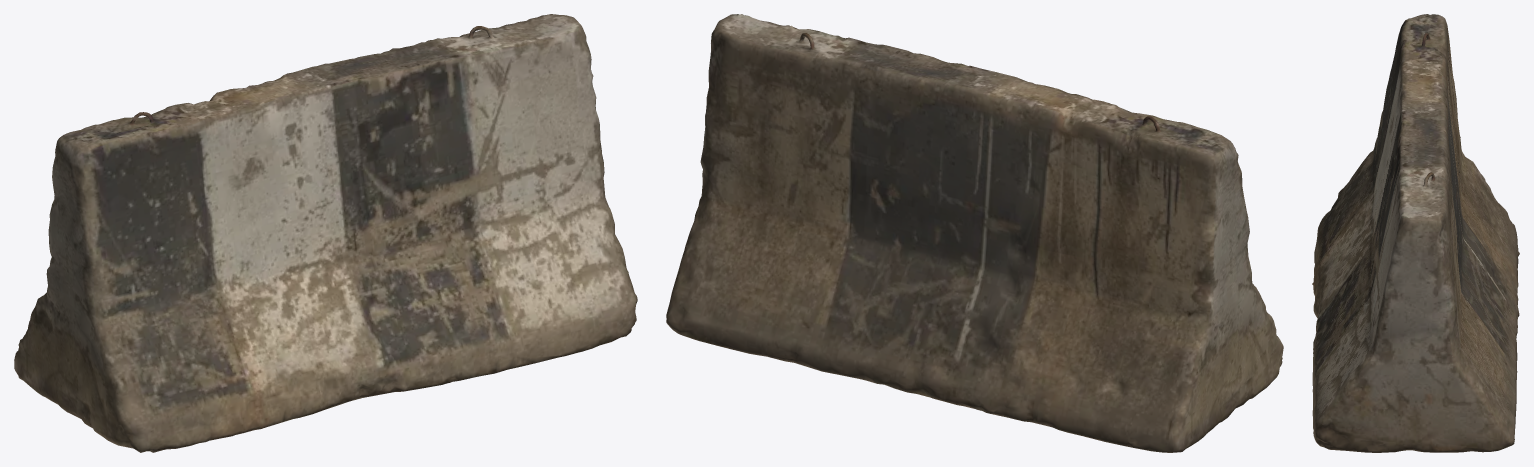
Rendered from barreira_concreto.glb.
3 views of the same model, side by side, from view 1: azimuth 30°, elevation 25°; view 2: azimuth 150°, elevation 25°; view 3: azimuth 270°, elevation 25° (orthographic). The views are drawn at different scales.
Visible parts, largest first — view 1: concrete_road_barrier; view 2: concrete_road_barrier; view 3: concrete_road_barrier.
Boxes of the visible parts, x1,y1,x2,y2 form: concrete_road_barrier: (14, 14, 637, 452); concrete_road_barrier: (666, 14, 1283, 452); concrete_road_barrier: (1312, 14, 1519, 452).
Size of the model in its own units: 1.54 by 0.8304 by 0.6387.
1 material, 1 textured.
